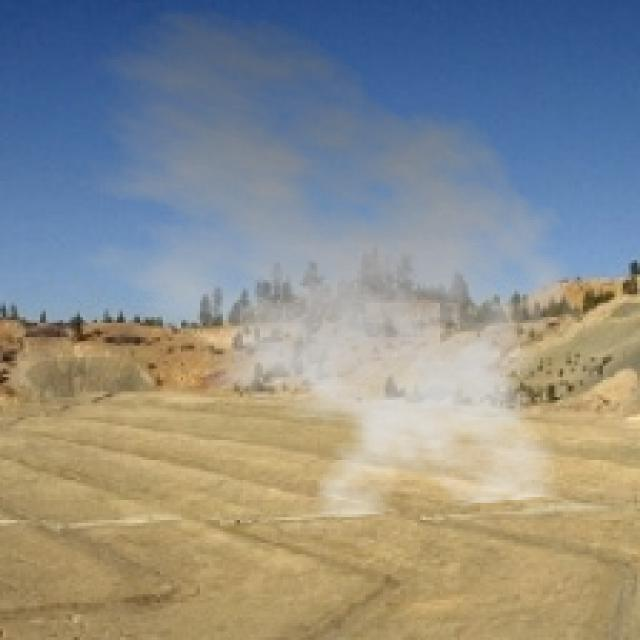smoke: (40, 3, 600, 520)
